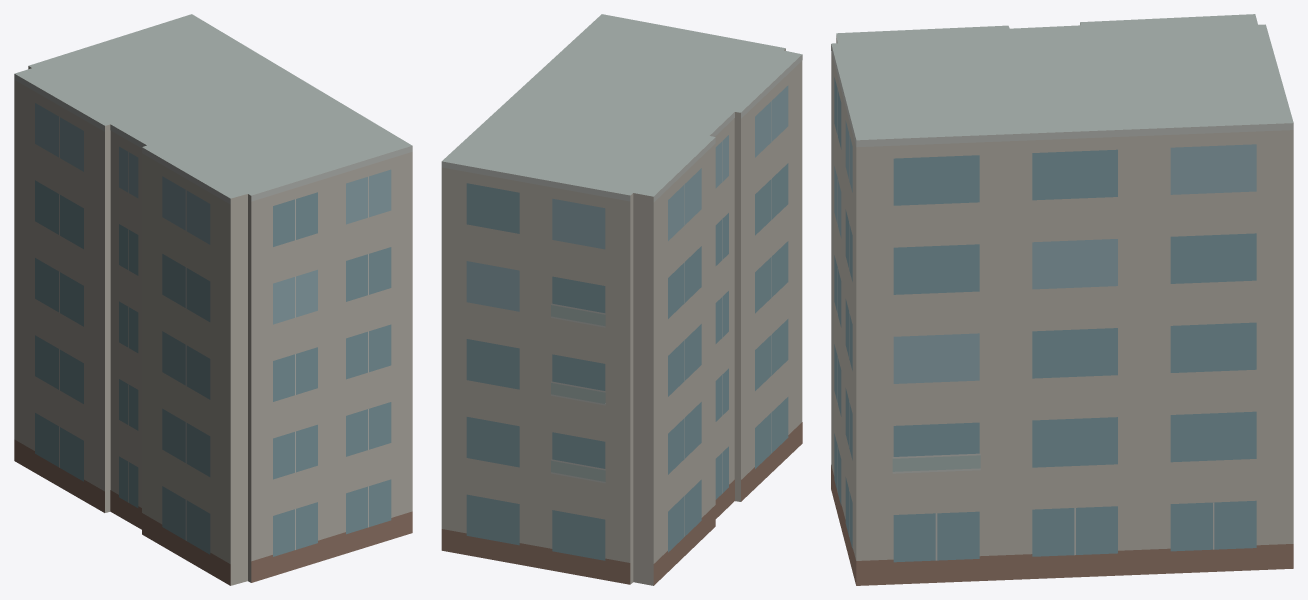
The model's file is survey-upis-32670464.glb.
3 views of the same model, side by side, from view 1: azimuth 30°, elevation 25°; view 2: azimuth 150°, elevation 25°; view 3: azimuth 270°, elevation 25° (orthographic). The views are drawn at different scales.
Visible parts, largest first — view 1: survey-upis-32670464.tmp; view 2: survey-upis-32670464.tmp; view 3: survey-upis-32670464.tmp.
Boxes of the visible parts, x1,y1,x2,y2 form: survey-upis-32670464.tmp: (14, 14, 412, 585); survey-upis-32670464.tmp: (441, 14, 802, 585); survey-upis-32670464.tmp: (831, 14, 1293, 585).
Size of the model in its own units: 9.55 by 15.7 by 14.78.
